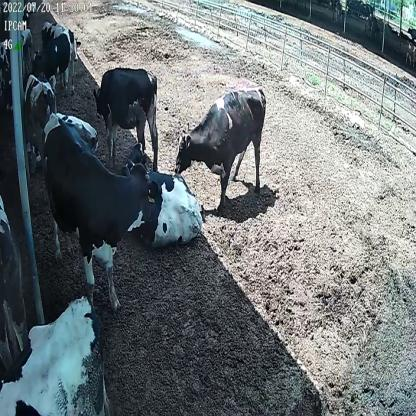cow: (41, 109, 160, 311), (172, 82, 271, 206), (122, 141, 205, 249), (90, 64, 160, 169), (40, 20, 80, 95)
